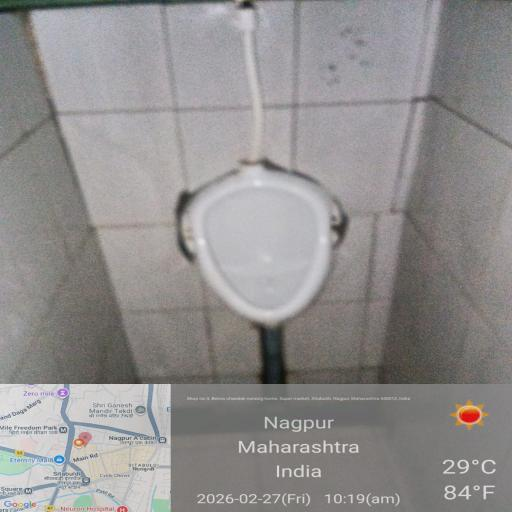clean_floor: (62, 24, 436, 142)
clean_urinal: (176, 173, 358, 327)
partial_dirty_floor: (76, 343, 467, 512)
